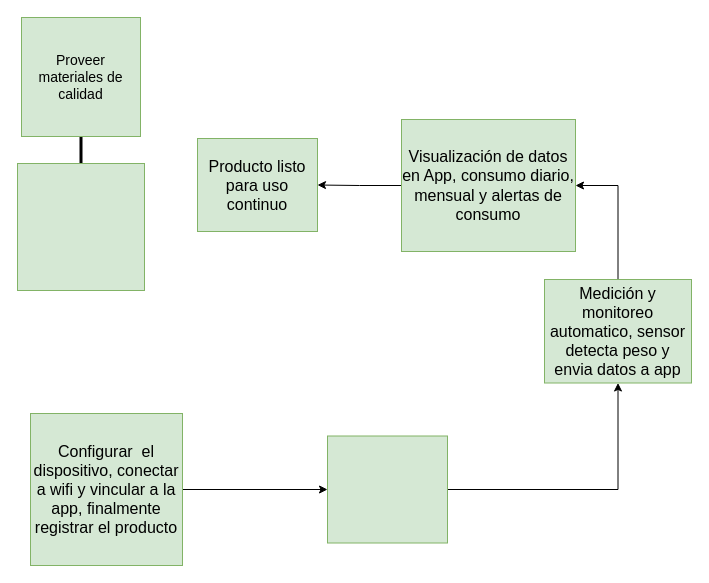
Some shapes in this 709 by 583 pixel diagram are drawn without their labels. Here are the shapes that lost their labels. From the top down, the centre of each, then its label:
At (x=80, y=226): "Sensor de peso Placa Wifi Bateria recargable Contenedor".
At (x=387, y=489): "Previa limpieza del recipiente, colocar fruto seco a granel".
